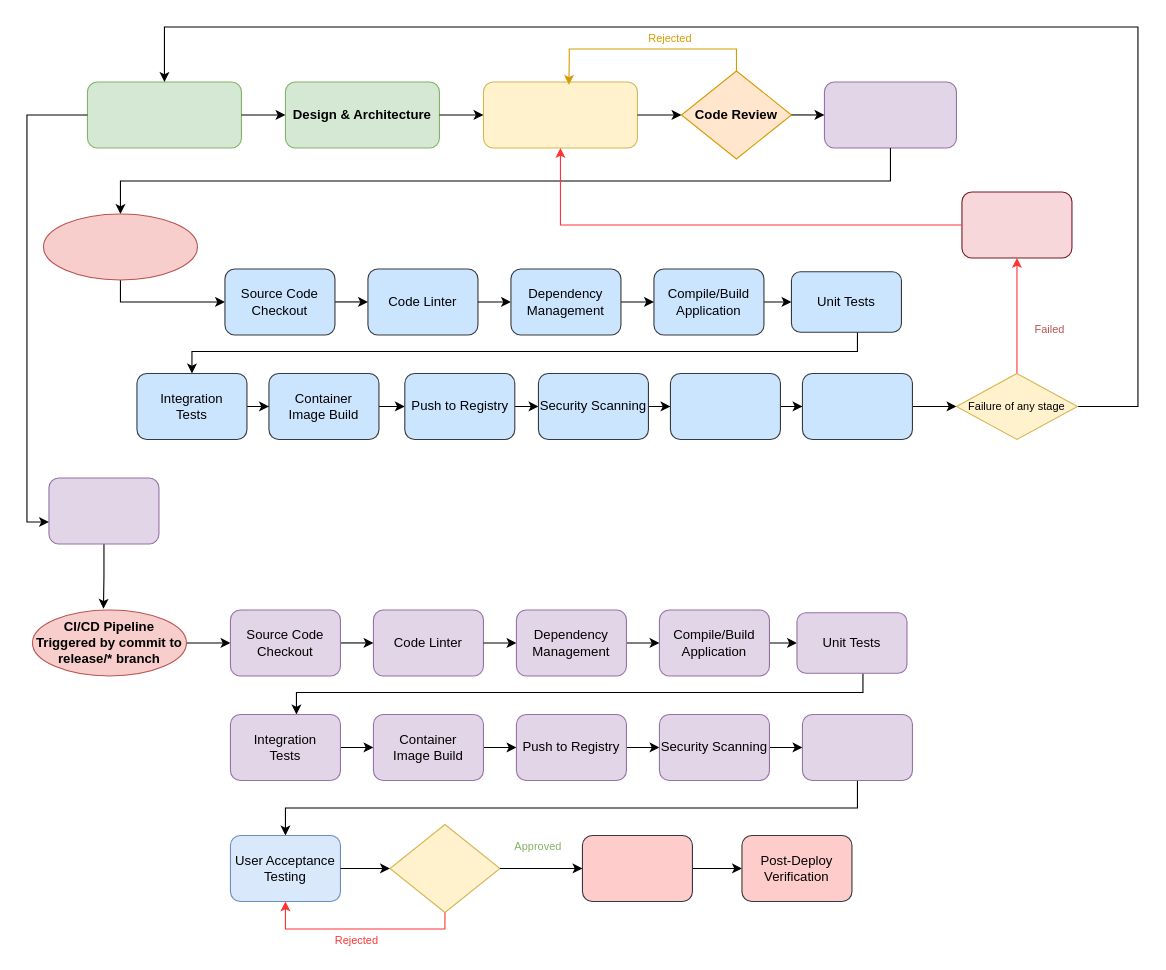
Some shapes in this 1166 by 970 pixel diagram are drawn without their labels. The shapes that lost their labels are listed below. From the top down, each one's centre as x and y in pixels, then its label:
[163,114]: Planning & Requirements
[559,114]: Development
[889,114]: Version Control (Git)
[1016,224]: Failure Notification
[119,246]: CI/CD Pipeline Triggered by commit to develop branch
[724,405]: Deploy to Development
[856,405]: Dev Testing
[103,510]: Release Manager Creates Release
[856,746]: Deploy to Staging
[444,867]: Manual Approval?
[636,867]: Deploy to Production
